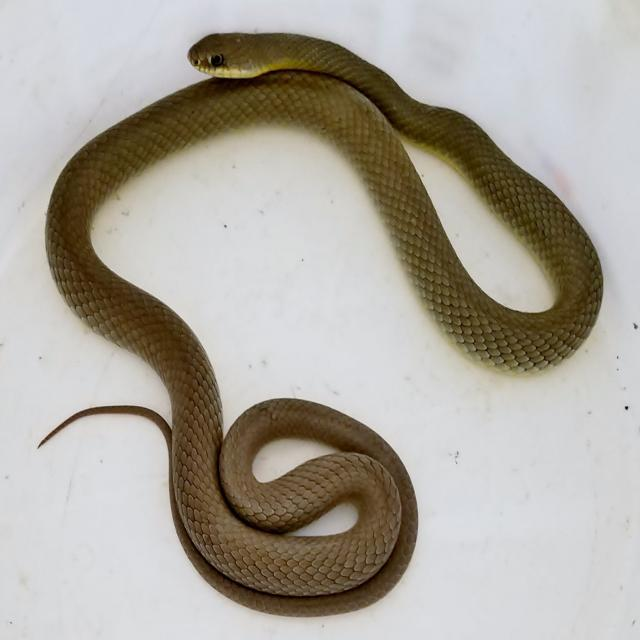Snake: (19, 0, 616, 631)
